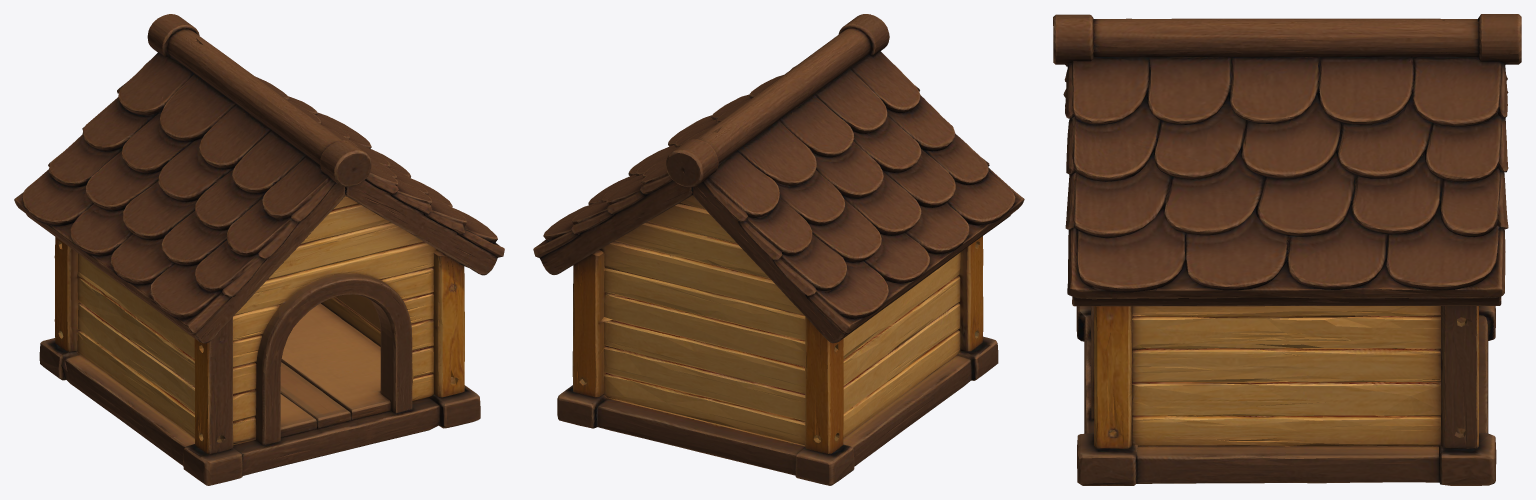
The model's file is DOM_budka_5__second.glb.
3 renders of one model, left to right at view 1: azimuth 30°, elevation 25°; view 2: azimuth 150°, elevation 25°; view 3: azimuth 270°, elevation 25°, orthographic. The views are drawn at different scales.
Visible parts, largest first — view 1: tripo_node_4270237d-f715-4786-afb8-5faeb0086992; view 2: tripo_node_4270237d-f715-4786-afb8-5faeb0086992; view 3: tripo_node_4270237d-f715-4786-afb8-5faeb0086992.
Boxes of the visible parts, left/top/right/bottom form: tripo_node_4270237d-f715-4786-afb8-5faeb0086992: left=14, top=14, right=504, bottom=485; tripo_node_4270237d-f715-4786-afb8-5faeb0086992: left=533, top=14, right=1024, bottom=485; tripo_node_4270237d-f715-4786-afb8-5faeb0086992: left=1053, top=14, right=1521, bottom=485.
Size of the model in its own units: 0.9805 by 0.8913 by 0.9776.
1 material, 1 textured.
